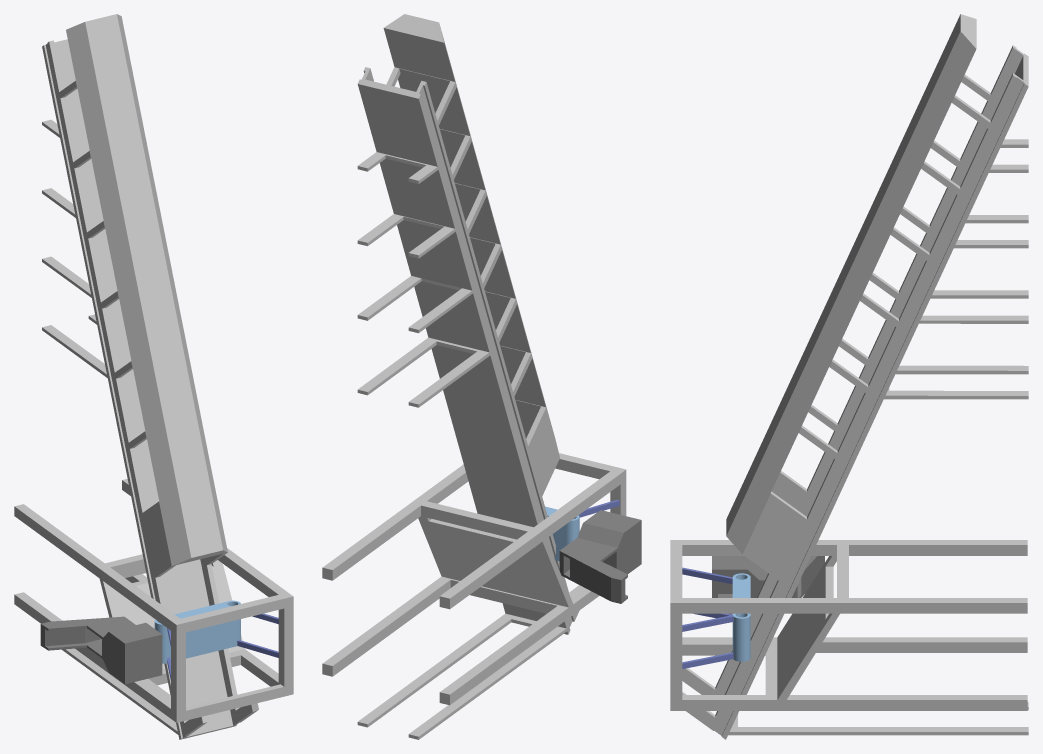
Rendered from rullo1.glb.
3 views of the same model, side by side, from view 1: azimuth 30°, elevation 25°; view 2: azimuth 150°, elevation 25°; view 3: azimuth 270°, elevation 25° (orthographic). The views are drawn at different scales.
Visible parts, largest first — view 1: Body2, Body1.001, Body1.007, Body1.002; view 2: Body2, Body1.001, Body1.007, Body1.002; view 3: Body2, Body1.001, Body1.007, Body1.002.
Boxes of the visible parts, box(x1,y1,x2,y2) form: Body2: box(42, 14, 258, 739); Body1.001: box(14, 479, 293, 722); Body1.007: box(40, 616, 162, 684); Body1.002: box(154, 600, 240, 663); Body2: box(357, 14, 579, 739); Body1.001: box(322, 453, 626, 705); Body1.007: box(559, 510, 641, 603); Body1.002: box(545, 506, 579, 561); Body2: box(682, 14, 1028, 739); Body1.001: box(670, 540, 1027, 710); Body1.007: box(712, 556, 824, 614); Body1.002: box(732, 573, 750, 661).
Bounding box in the file's own units: 0.039 × 0.1302 × 0.0602.
